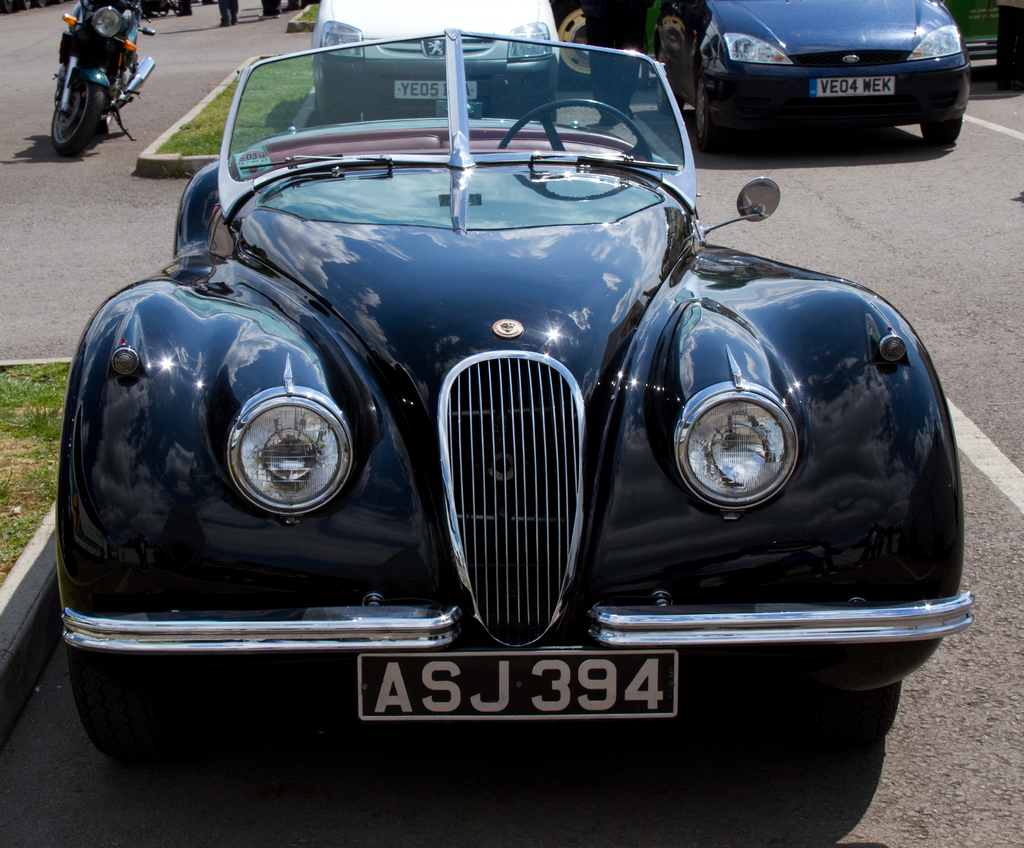Person: (577, 0, 656, 125), (216, 0, 242, 27), (256, 0, 283, 20), (283, 0, 299, 9)
